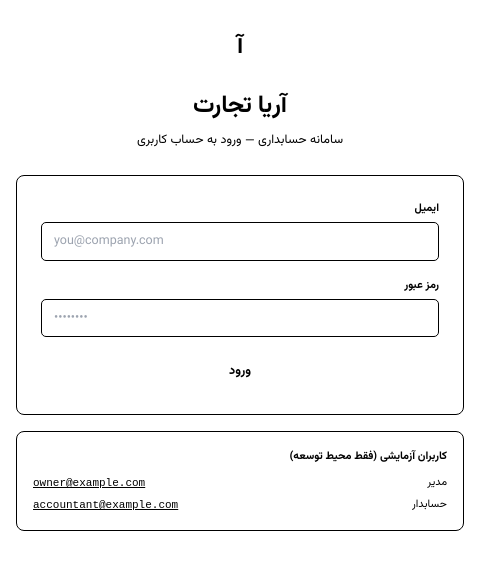
login page › shows server error on 401
Type "a@example.com" into the field labelled "ایمیل" at {"x": 240, "y": 241}, box [41,222,439,261]
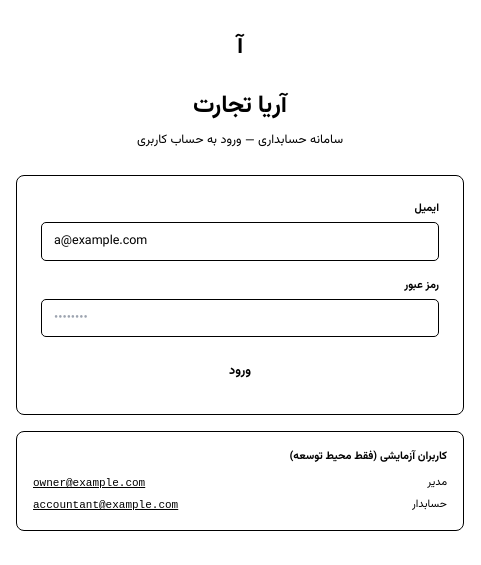
Type "wrong-pass-123" into the password field labelled "رمز عبور" at {"x": 240, "y": 318}, box [41,299,439,337]
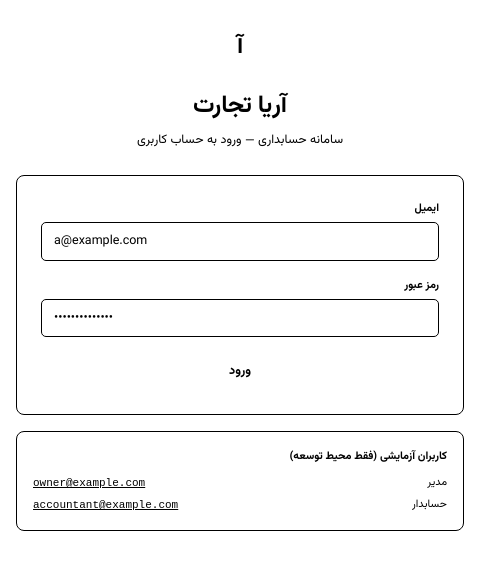
Click the button "ورود" at {"x": 240, "y": 372}, box [41,353,439,390]
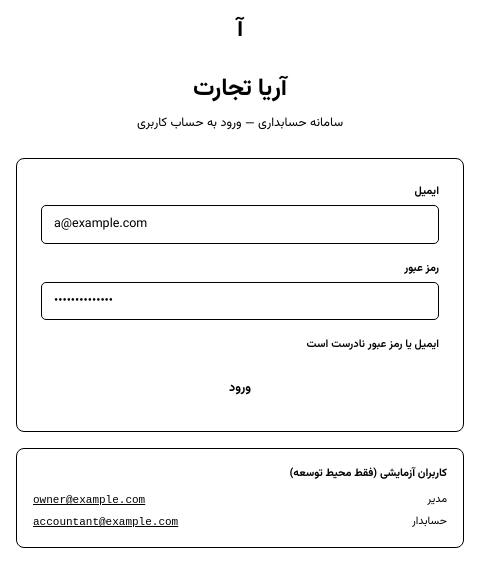
Expected: the message reads "ایمیل یا رمز عبور نادرست است", [306,336,439,353]
